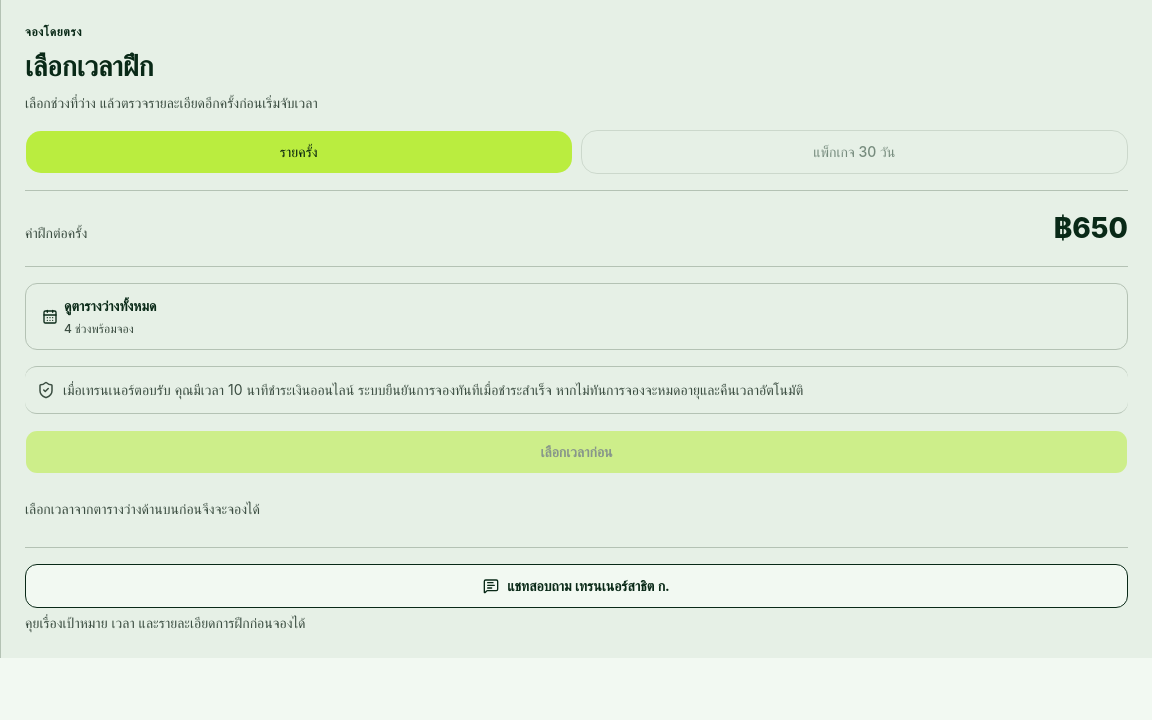
Test case: ProfileBookingPanel › chooses a calendar slot, shows its summary, and exposes the existing booking URL
Expected: the text "ค่าฝึกต่อครั้ง" is shown, [25,222,87,243]
Expected: the button "เลือกเวลาก่อน" is disabled, [25,430,1128,474]
Click the button "ดูตารางว่างทั้งหมด 4 ช่วงพร้อมจอง".
click(110, 306)  # box [25,283,1128,350]
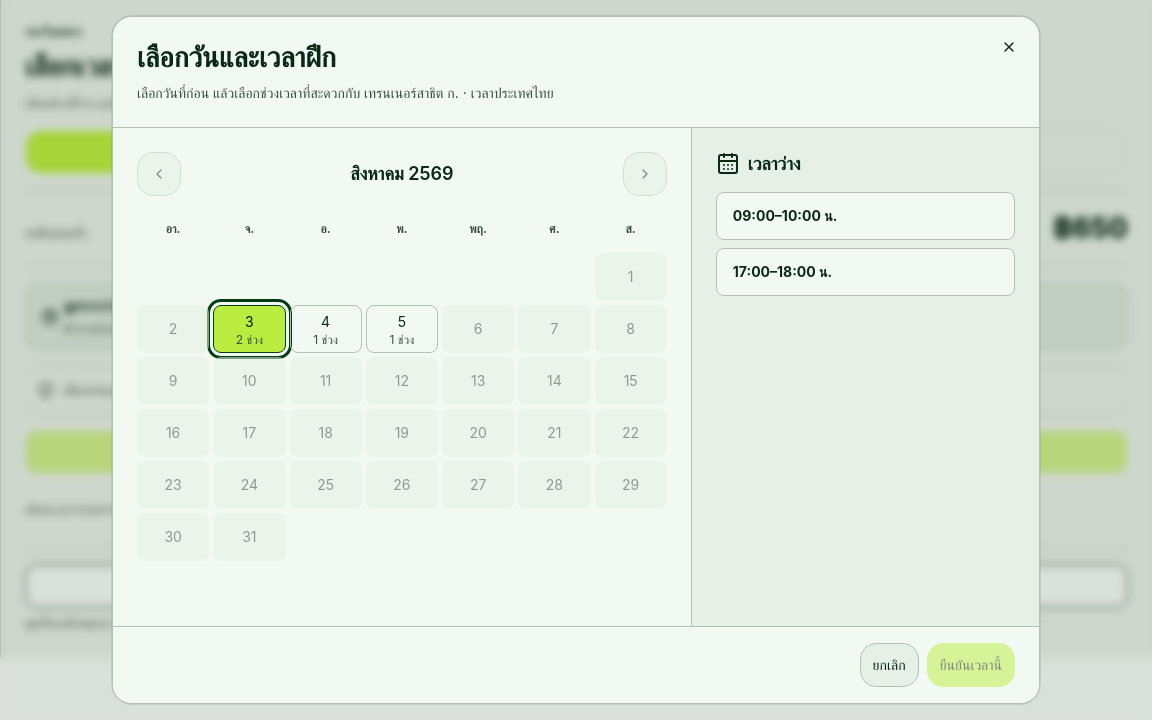
Click the button "09:00–10:00 น.".
click(754, 215)  # box [716,192,1015,240]
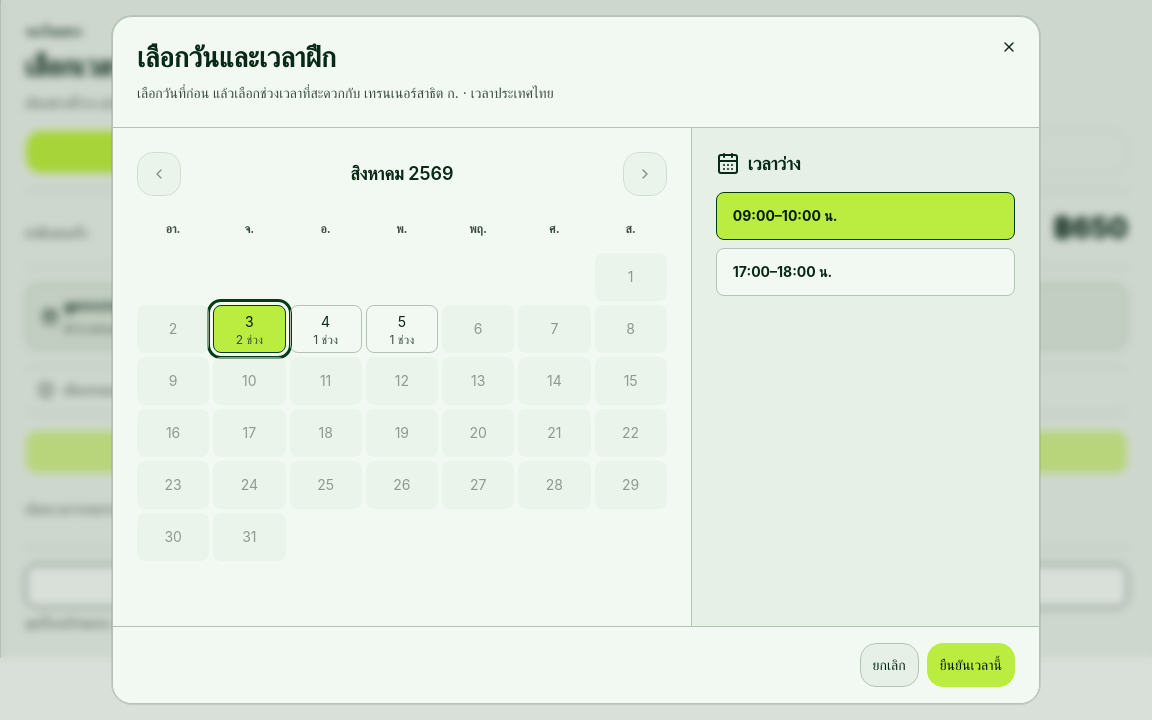
Click the button "ยืนยันเวลานี้".
click(971, 665)  # box [927,643,1015,687]
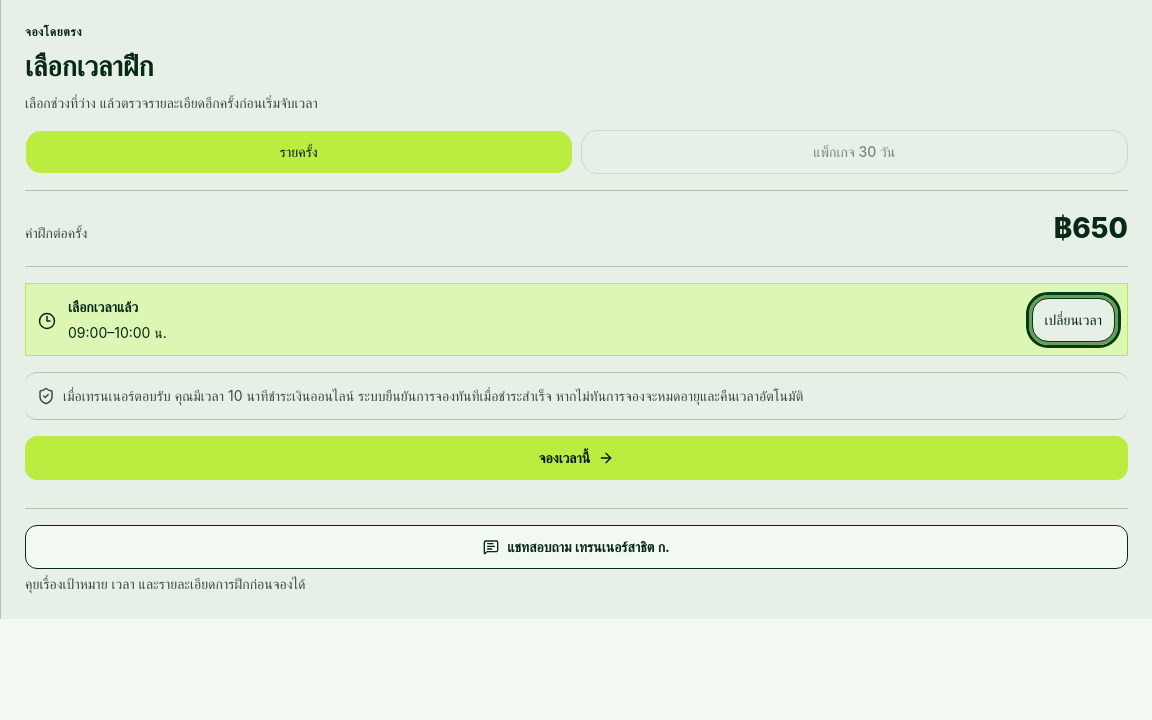
Result: the text "เลือกเวลาแล้ว" is shown at [68,298,138,315]
Result: the text "เลือกเวลาแล้ว 09:00–10:00 น." is shown at [68,298,167,341]
Result: the button "เปลี่ยนเวลา" is shown at [1032,298,1115,342]
